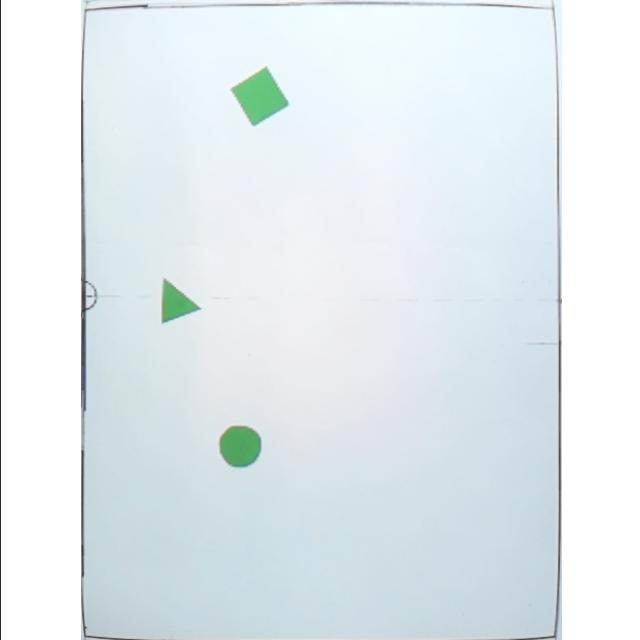greenCircle: (216, 425, 260, 469)
greenSquare: (228, 65, 288, 127)
greenTriangle: (156, 276, 200, 324)
